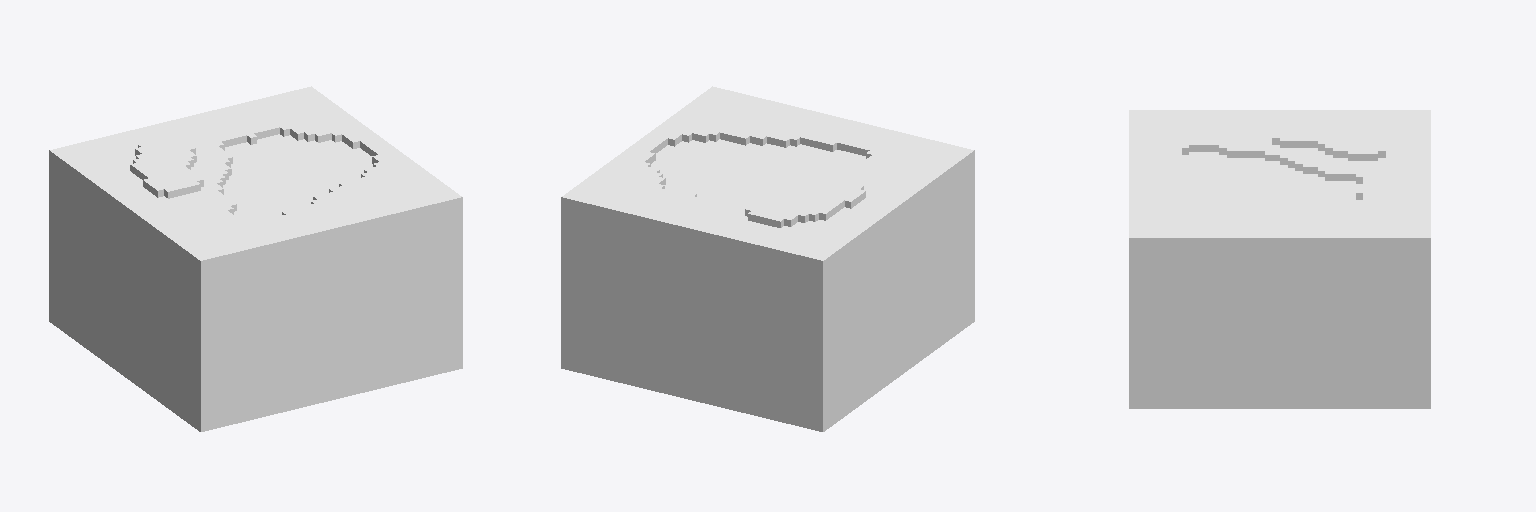
The model's file is tile-fullmountain-4.obj.
The picture shows the model from 3 angles: view 1: azimuth 30°, elevation 25°; view 2: azimuth 150°, elevation 25°; view 3: azimuth 270°, elevation 25°; orthographic projection.
Parts seen in each view (by area): view 1: tile-fullmountain-4; view 2: tile-fullmountain-4; view 3: tile-fullmountain-4.
Boxes of the visible parts, <box> form: tile-fullmountain-4: <box>49,86,462,431</box>; tile-fullmountain-4: <box>561,86,974,431</box>; tile-fullmountain-4: <box>1129,110,1430,408</box>.
Bounding box in the file's own units: 40 × 26 × 40.